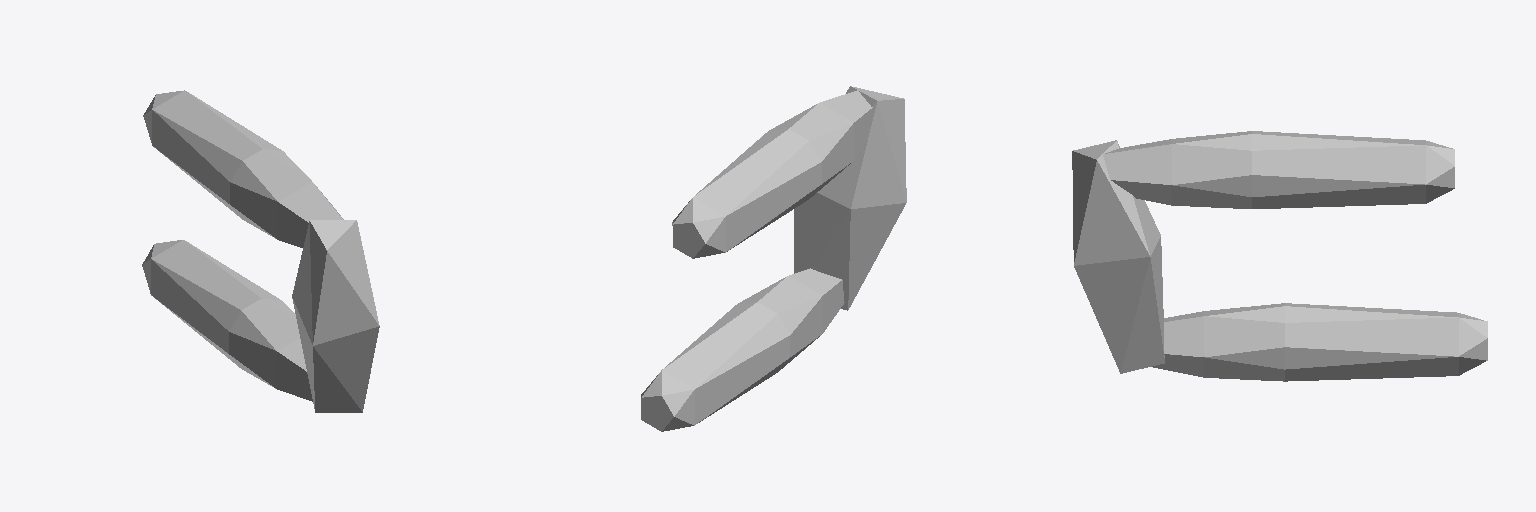
Rendered from gate.obj.
The picture shows the model from 3 angles: view 1: azimuth 30°, elevation 25°; view 2: azimuth 150°, elevation 25°; view 3: azimuth 270°, elevation 25°; orthographic projection.
Visible parts, largest first — view 1: Icosphere.001_Icosphere, Icosphere, Icosphere.002_Icosphere.001; view 2: Icosphere.001_Icosphere, Icosphere, Icosphere.002_Icosphere.001; view 3: Icosphere.001_Icosphere, Icosphere, Icosphere.002_Icosphere.001.
Boxes of the visible parts, x1,y1,x2,y2 form: Icosphere.001_Icosphere: [143, 90, 344, 247]; Icosphere: [142, 240, 312, 401]; Icosphere.002_Icosphere.001: [292, 220, 379, 412]; Icosphere.001_Icosphere: [672, 90, 872, 258]; Icosphere: [641, 268, 844, 431]; Icosphere.002_Icosphere.001: [794, 86, 906, 310]; Icosphere.001_Icosphere: [1101, 131, 1454, 208]; Icosphere: [1152, 303, 1487, 381]; Icosphere.002_Icosphere.001: [1072, 140, 1164, 373].
Bounding box in the file's own units: 2.37 × 6.55 × 10.39.